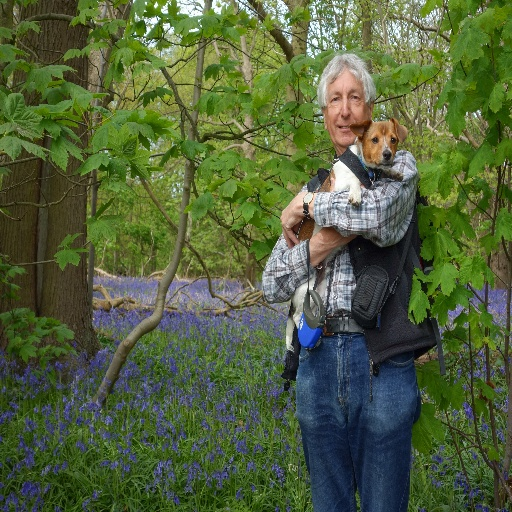hand: (320, 174, 366, 246), (281, 192, 320, 251)
